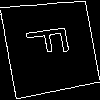F: (25, 22, 79, 59)
